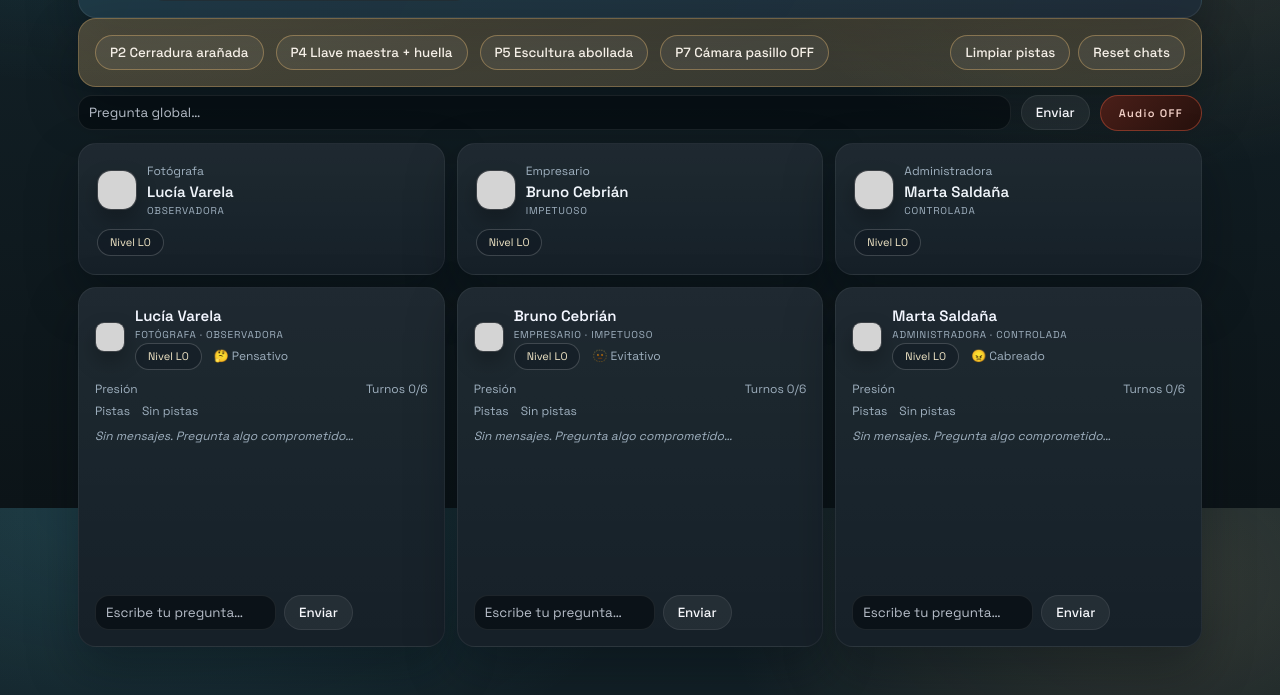
App › sends a question and shows it in chat
The width and height of the screenshot is (1280, 695).
(page scrolled)
Type "Hola" into the field with placeholder "Escribe tu pregunta…" below "Pensativo". click: [186, 612]
box: top-left (95, 595), bottom-right (276, 630)
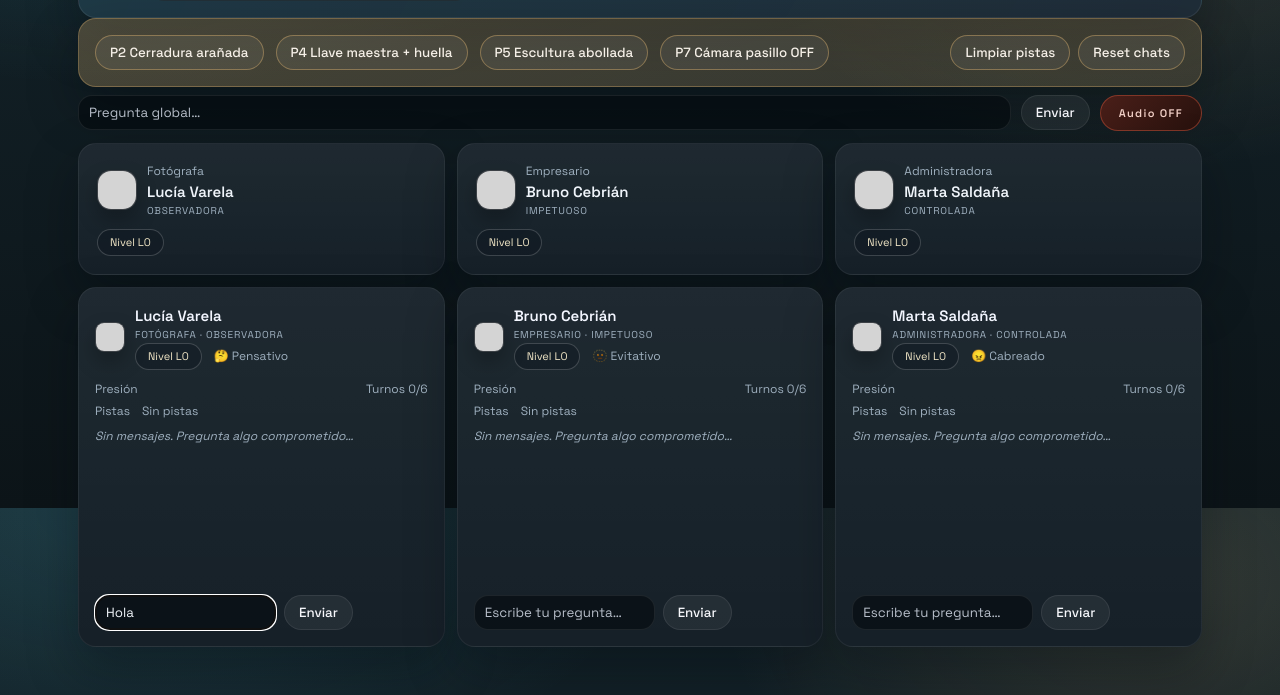
Click the button "Enviar" below "Pensativo". click: [318, 612]
box: top-left (284, 595), bottom-right (353, 630)
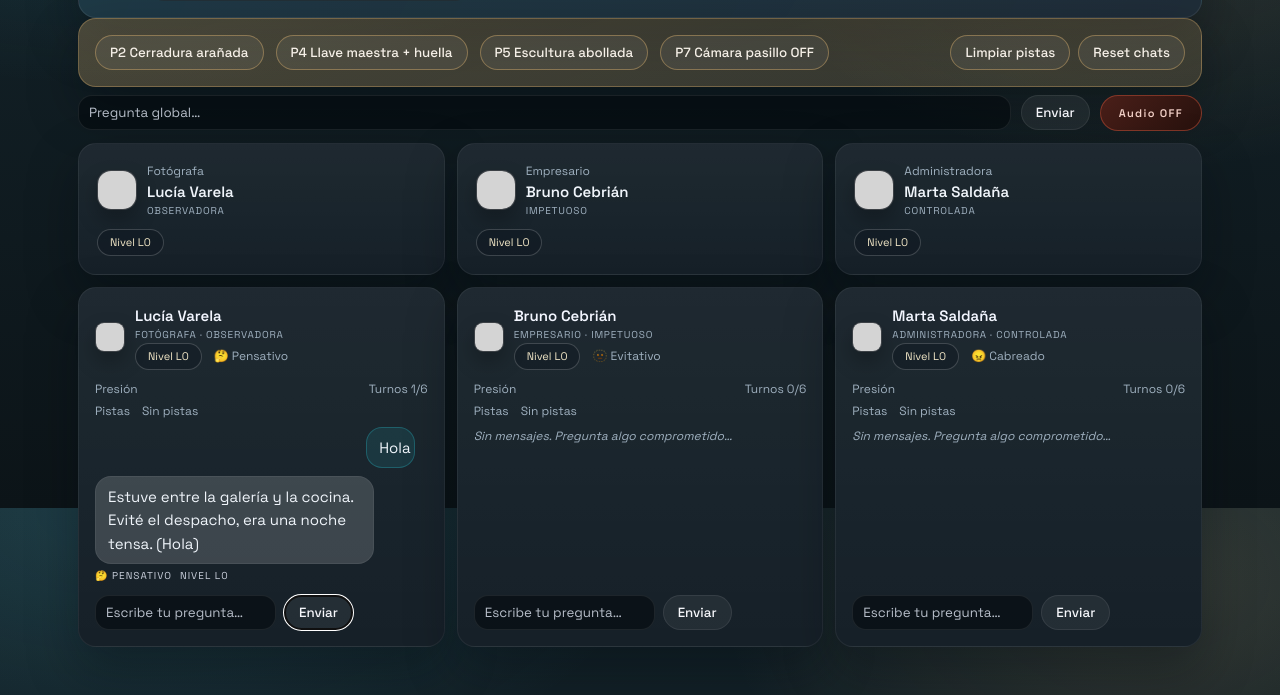
Expected: the text "Hola" is shown, top-left (366, 427), bottom-right (415, 468)
